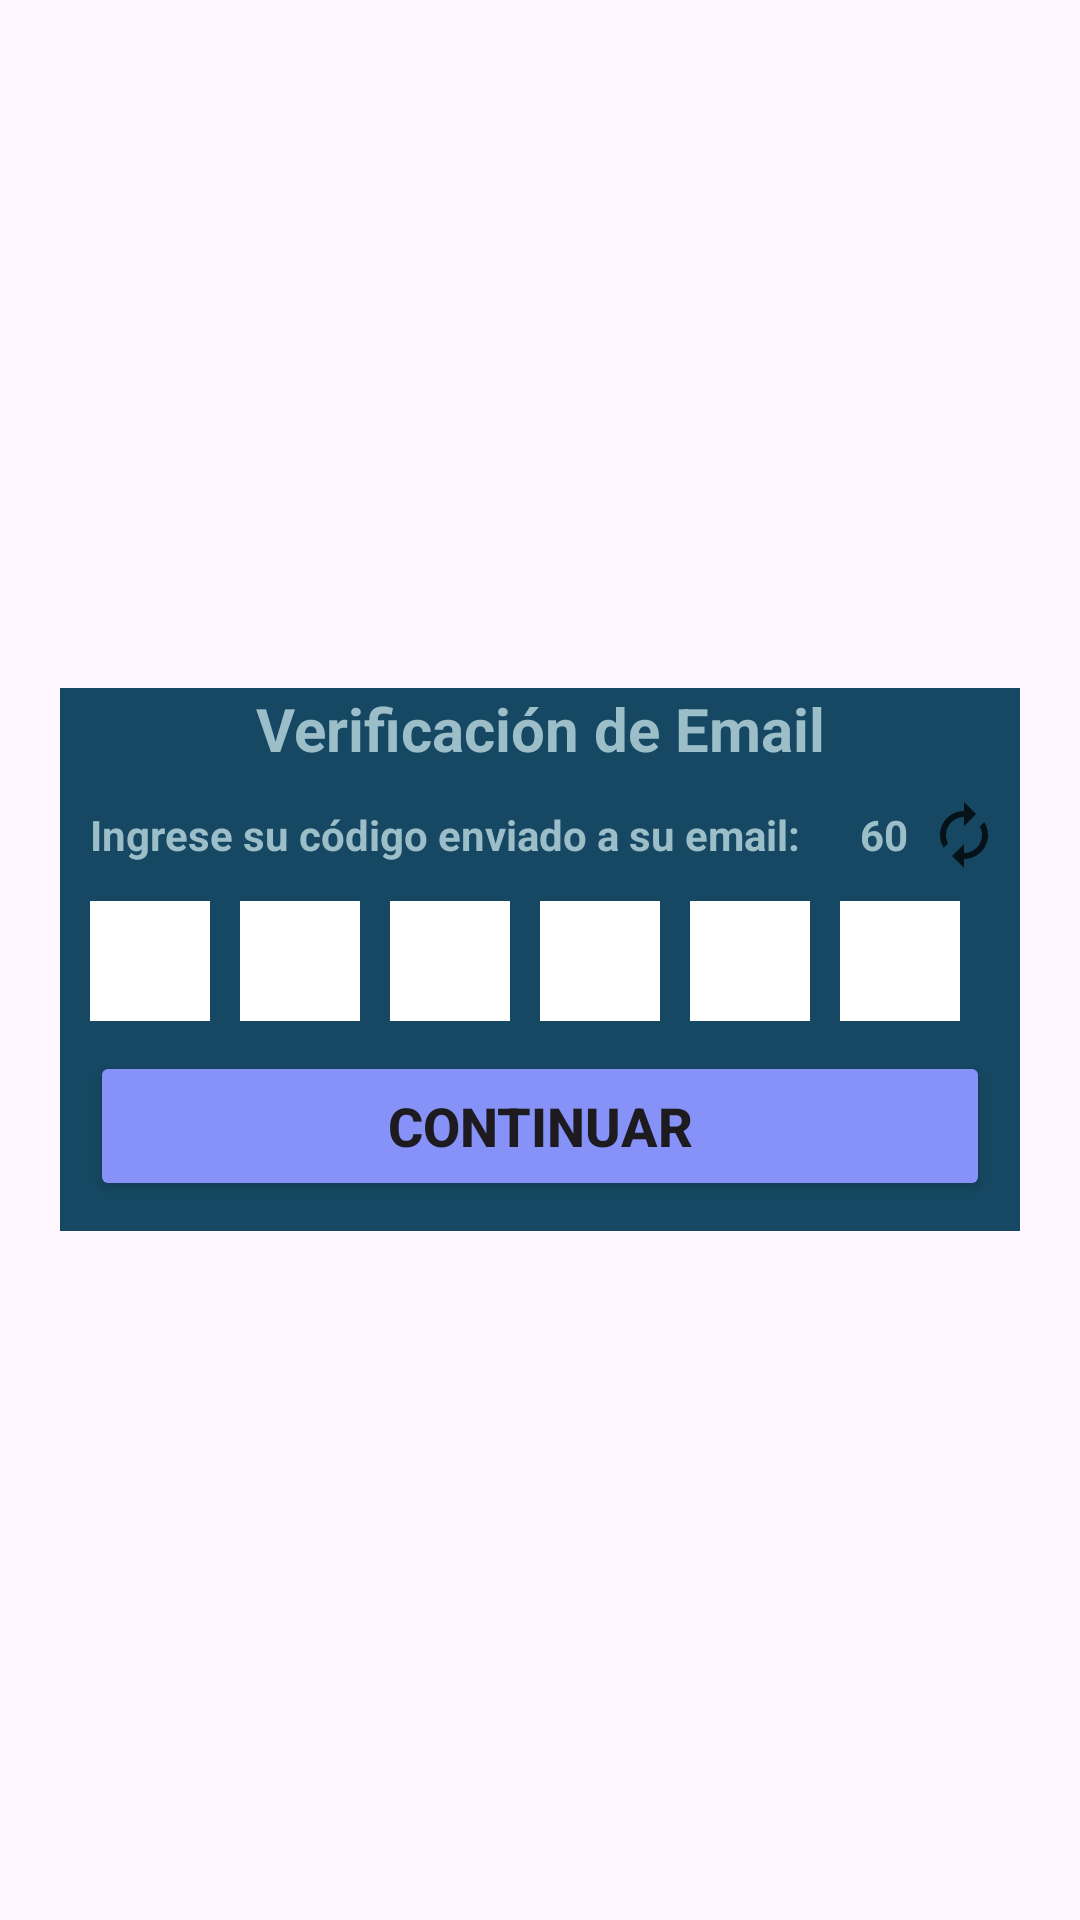

Icons on this 1080 x 1920 Android screen, each with the point to tap as [x,y]:
refresh: [964,835]
